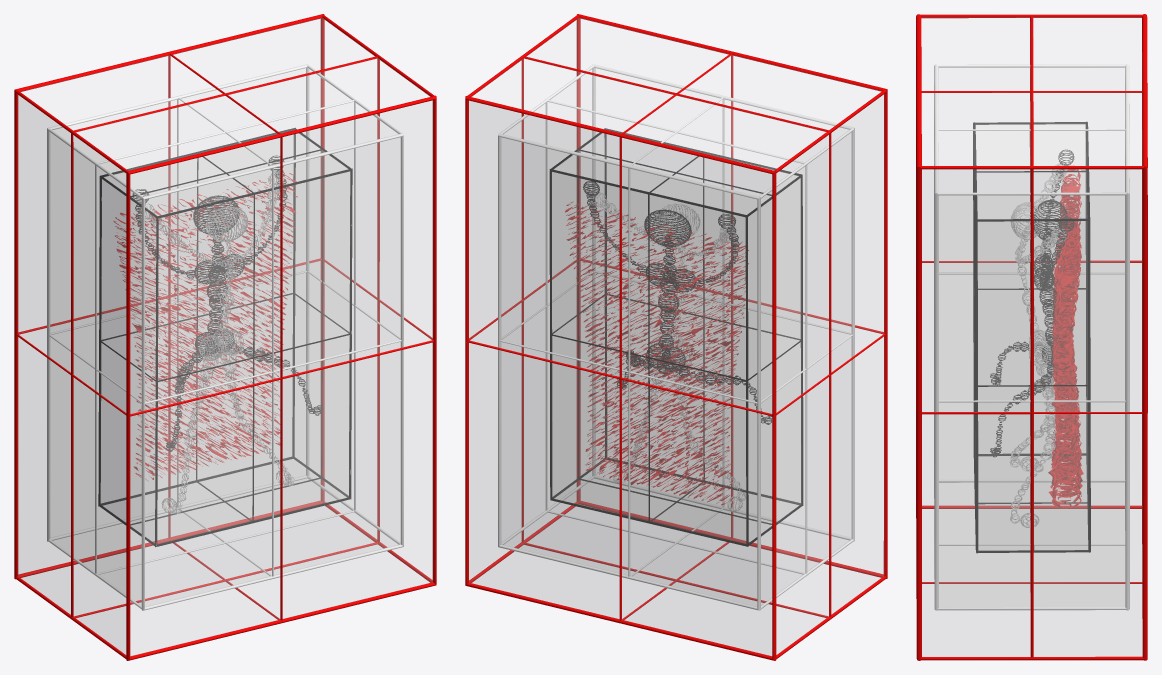
Rendered from mystical-arcases-mix2-v1.glb.
3 views of the same model, side by side, from view 1: azimuth 30°, elevation 25°; view 2: azimuth 150°, elevation 25°; view 3: azimuth 270°, elevation 25° (orthographic).
Parts seen in each view (by area): view 1: alkol.003, MYSTIC-BRED.002; view 2: alkol.003, MYSTIC-BRED.002; view 3: alkol.003, MYSTIC-BRED.002.
Part boxes in pixels (x1,y1,x2,y2): alkol.003: (14, 14, 436, 660); MYSTIC-BRED.002: (98, 128, 352, 546); alkol.003: (465, 14, 887, 660); MYSTIC-BRED.002: (549, 128, 803, 546); alkol.003: (916, 14, 1147, 660); MYSTIC-BRED.002: (973, 121, 1090, 553).
Size of the model in its own units: 1.6 by 2.41 by 1.02.
